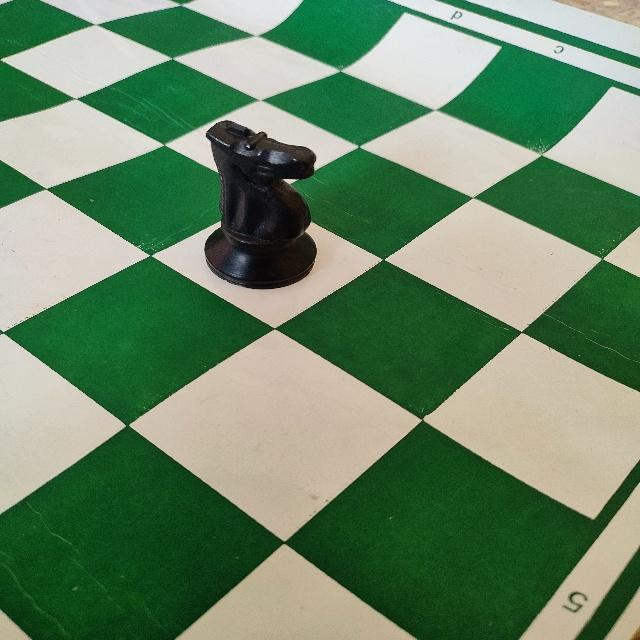Knight: (200, 115, 330, 292)
